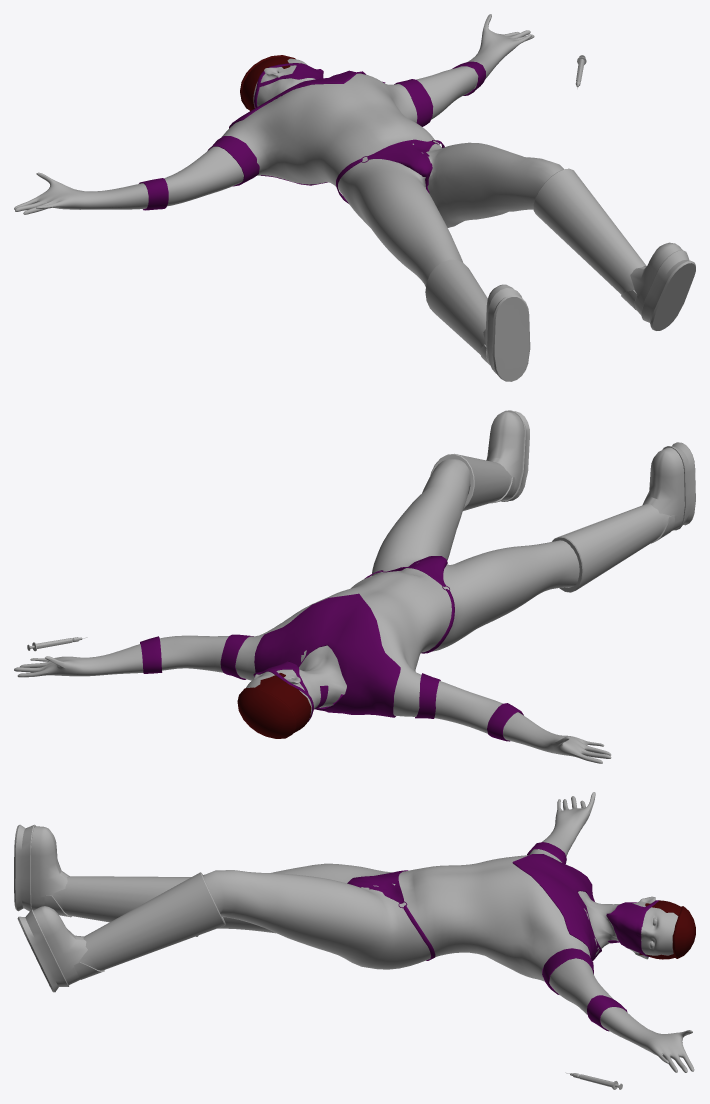
Rendered from NourMesh.fbx.
3 renders of one model, top to bottom at view 1: azimuth 30°, elevation 25°; view 2: azimuth 150°, elevation 25°; view 3: azimuth 270°, elevation 25°, orthographic. The views are drawn at different scales.
Parts seen in each view (by area): view 1: Nour; view 2: Nour; view 3: Nour.
Boxes of the visible parts, x1,y1,x2,y2 form: Nour: (14, 14, 695, 381); Nour: (14, 410, 695, 763); Nour: (14, 792, 695, 1072).
Bounding box in the file's own units: 166 × 33.08 × 170.
